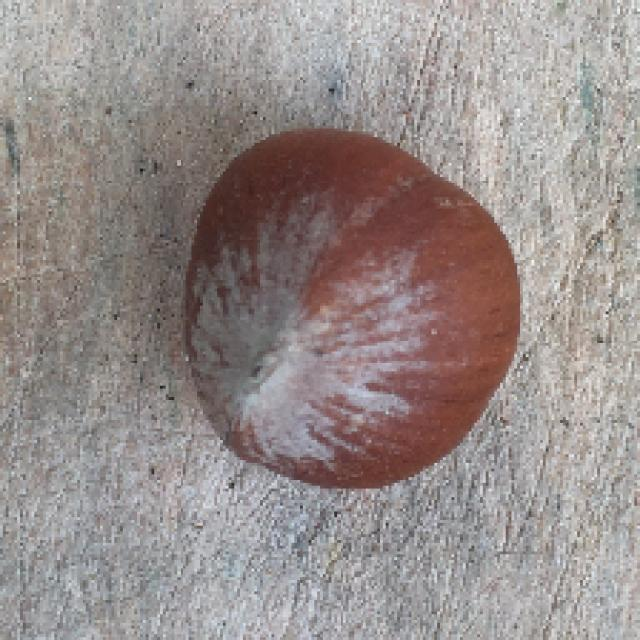QualityHazelnut: (183, 124, 525, 492)
